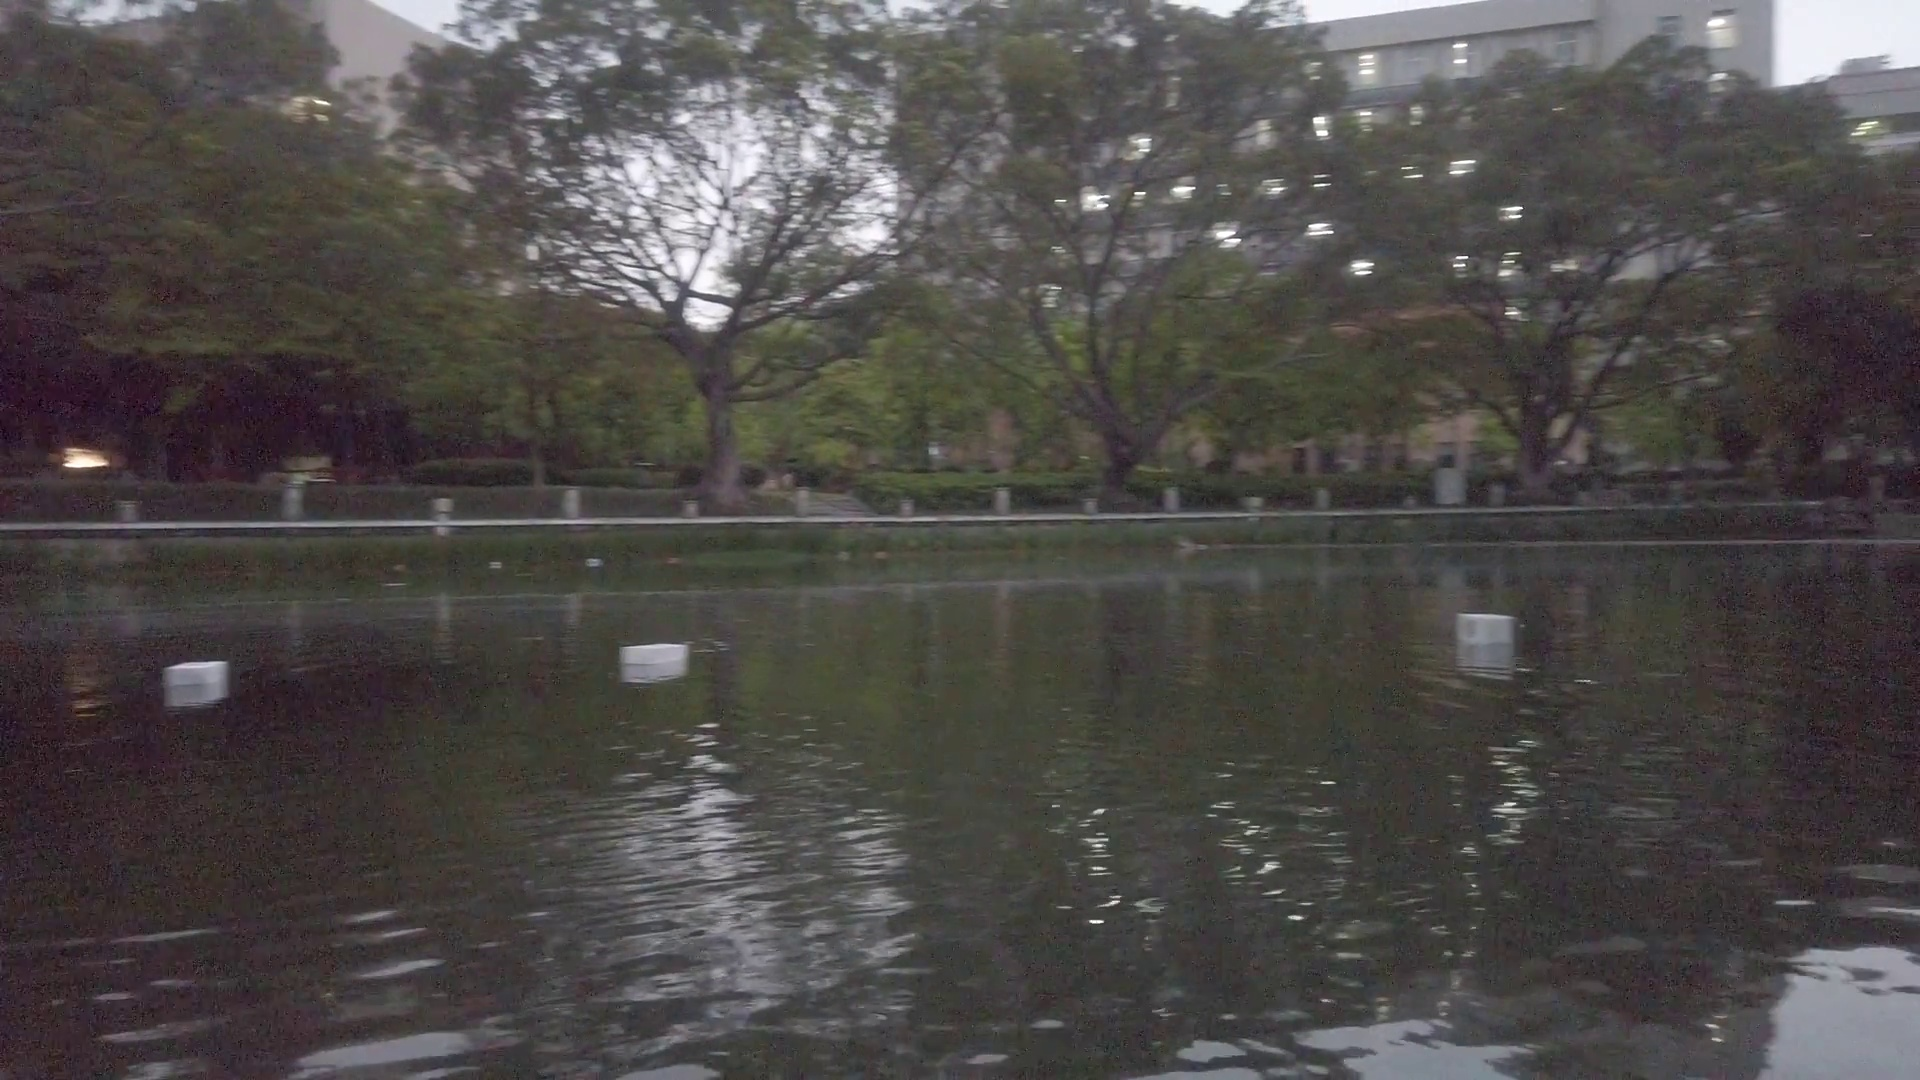carton: (611, 641, 691, 667), (1458, 613, 1515, 644), (164, 661, 229, 684)
